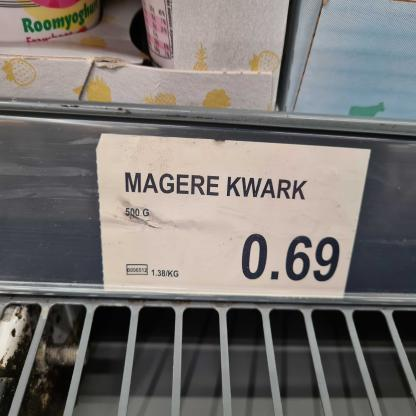prtg: (96, 135, 372, 300)
